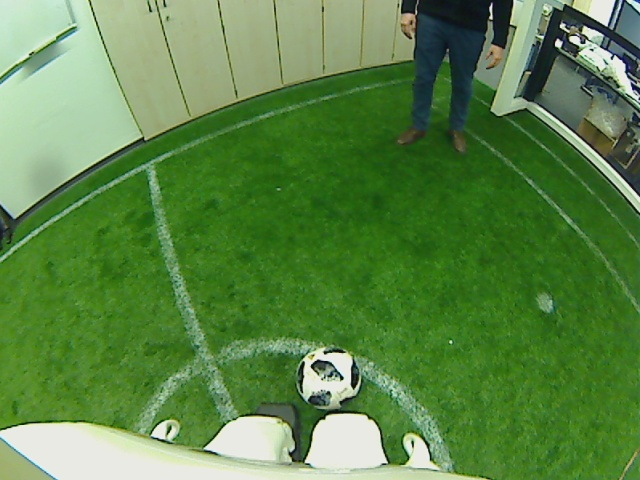ball: (293, 342, 362, 410)
